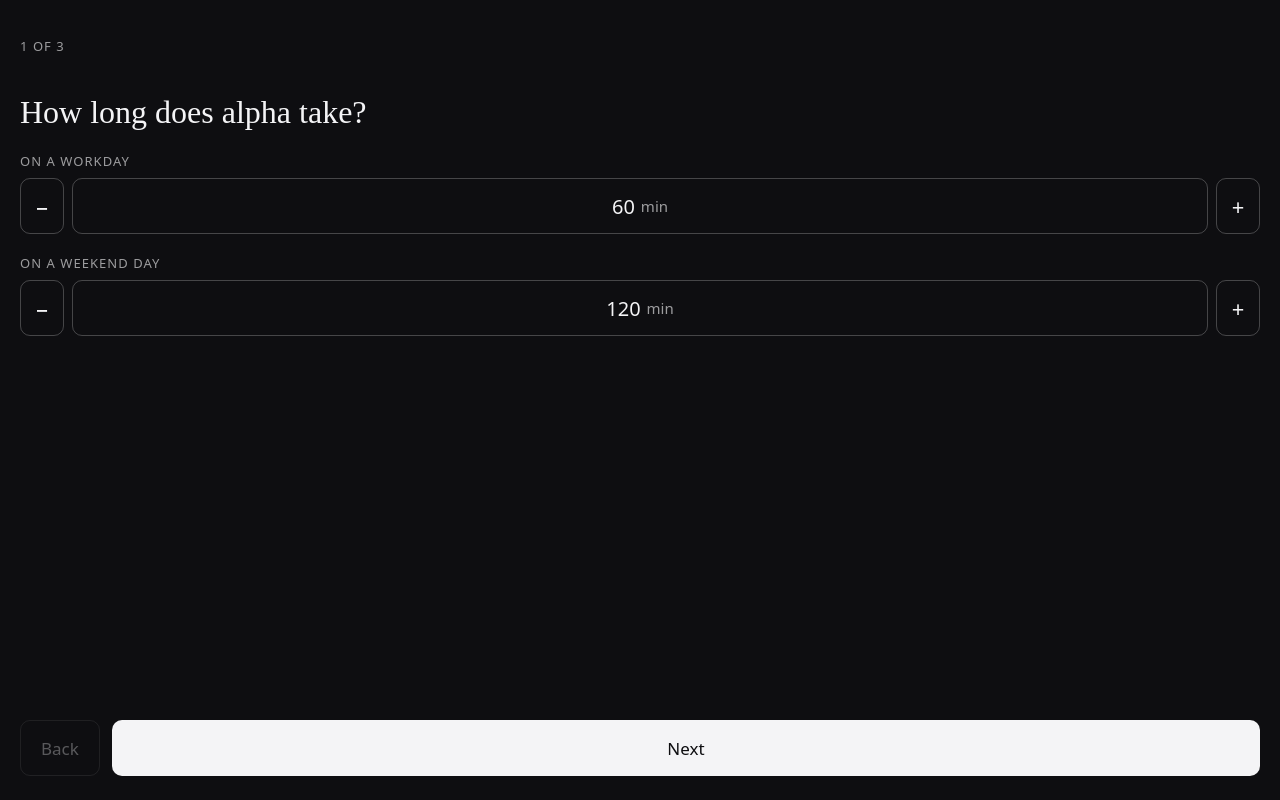
Test case: S1 gates (§4.2.1) › recomputes progress over reachable screens when a gate changes (AC 8)
Expected: the text "1 of 3" is shown, [20,37,65,55]
Click the button "Next": {"x": 686, "y": 748} [112,720,1260,776]
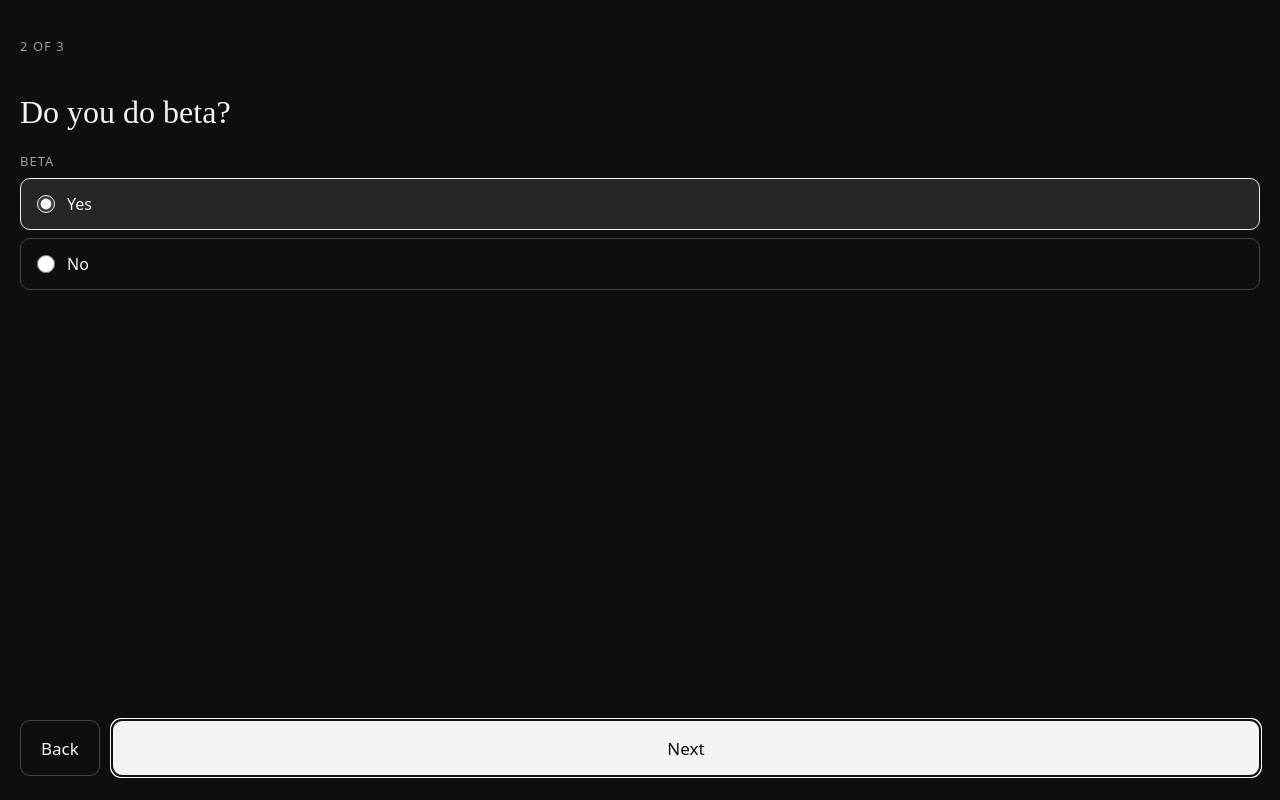
Result: the text "2 of 3" is shown at [20,37,65,55]
Click the radio button labelled "No": {"x": 46, "y": 264} [37,255,55,273]
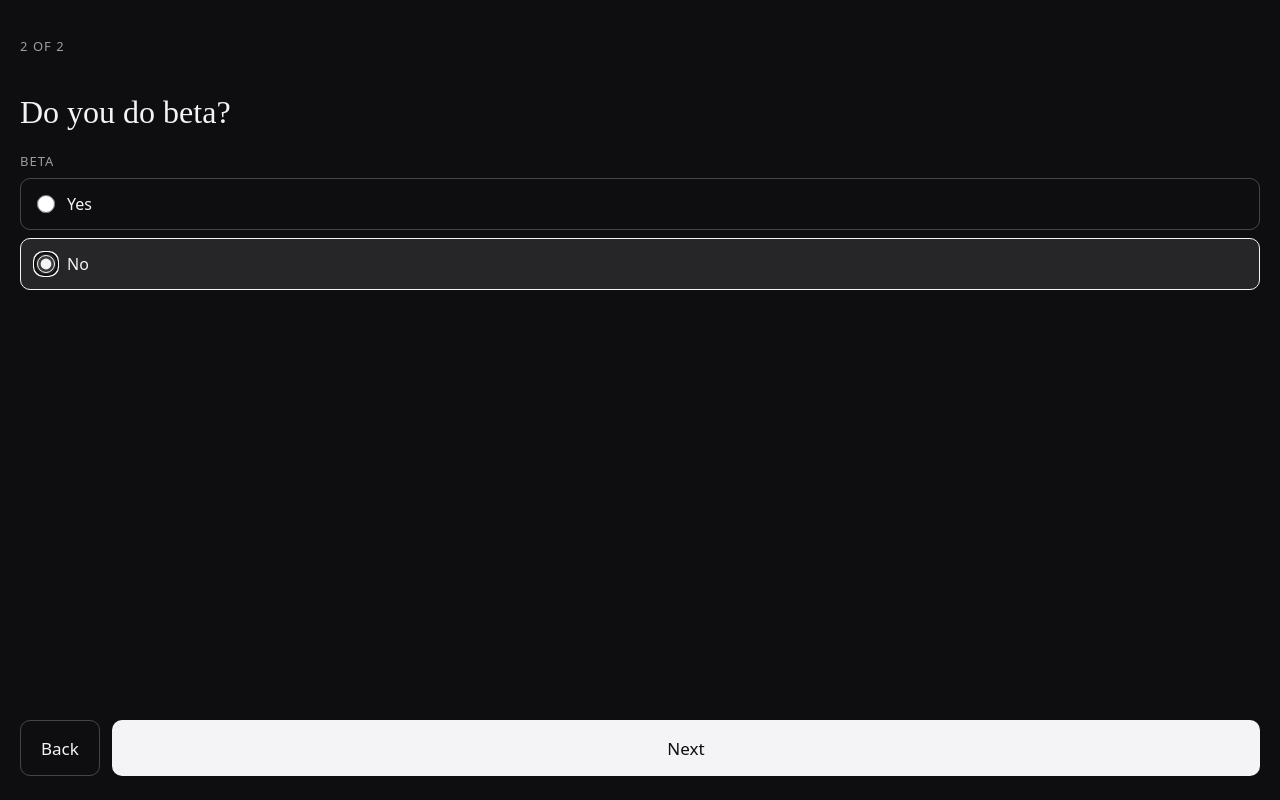
Result: the text "2 of 2" is shown at [20,37,65,55]
Click the radio button labelled "Yes": {"x": 46, "y": 204} [37,195,55,213]
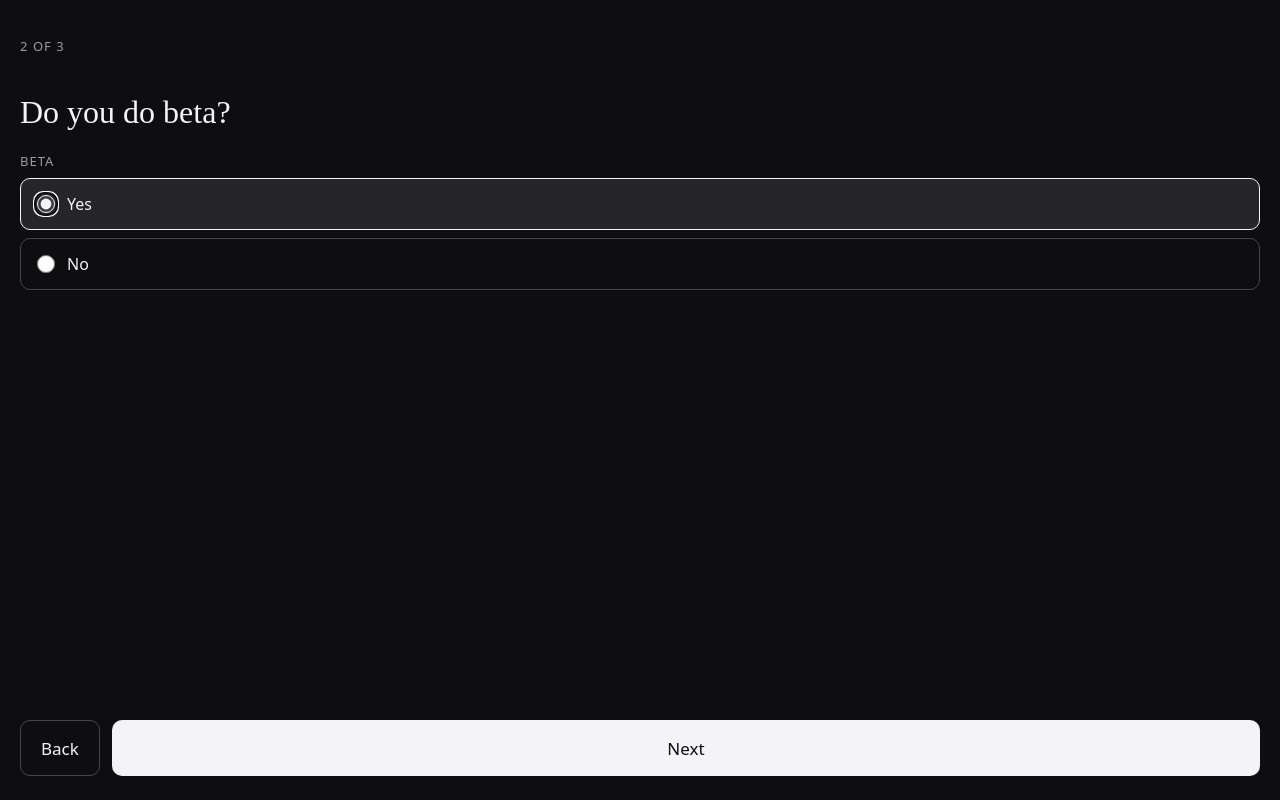
Result: the text "2 of 3" is shown at [20,37,65,55]
